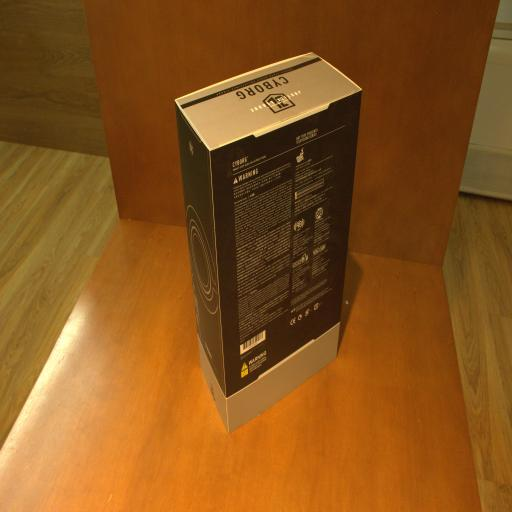Cyborg: (174, 53, 362, 434)
